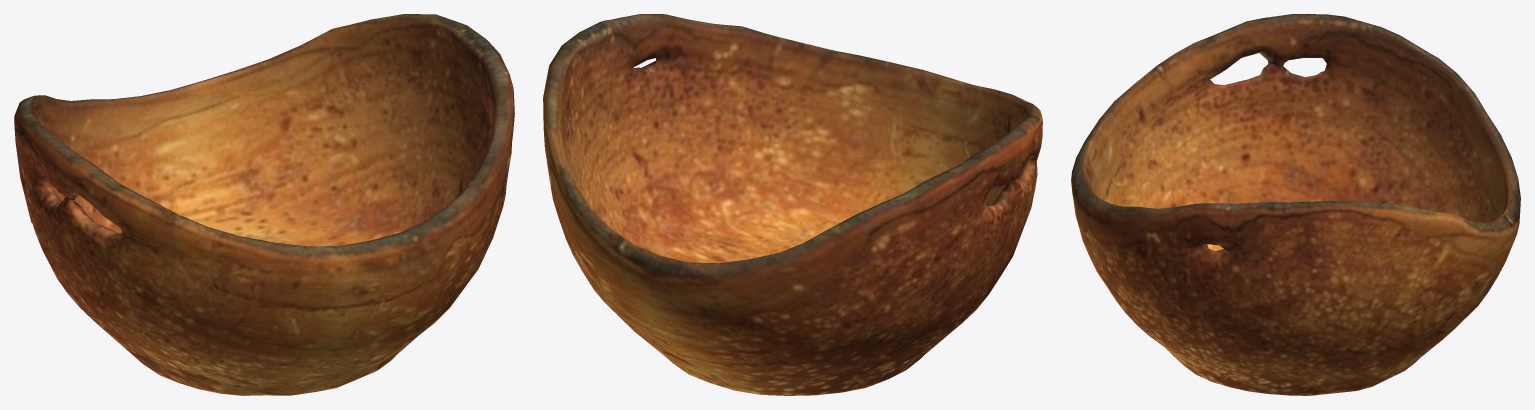
Rendered from wooden_bowl_02.glb.
The picture shows the model from 3 angles, left to right: view 1: azimuth 30°, elevation 25°; view 2: azimuth 150°, elevation 25°; view 3: azimuth 270°, elevation 25°; orthographic projection. The views are drawn at different scales.
Visible parts, largest first — view 1: wooden_bowl_02; view 2: wooden_bowl_02; view 3: wooden_bowl_02.
Boxes of the visible parts, box(x1,y1,x2,y2) form: wooden_bowl_02: box(14, 14, 514, 395); wooden_bowl_02: box(543, 14, 1042, 395); wooden_bowl_02: box(1071, 14, 1520, 395).
Size of the model in its own units: 0.1307 by 0.0731 by 0.1245.
1 material, 1 textured.
